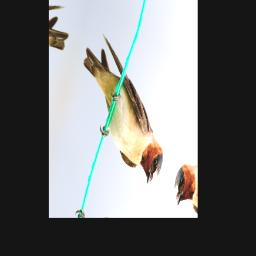Swallow: (64, 26, 184, 191)
